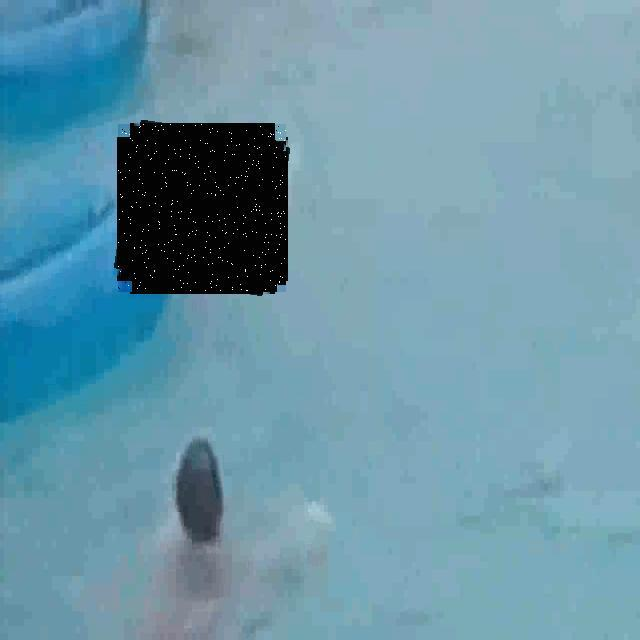Out of Water: (118, 125, 286, 292)
